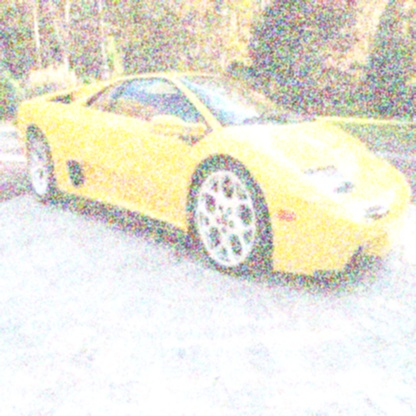Vehicle: (17, 74, 410, 280)
